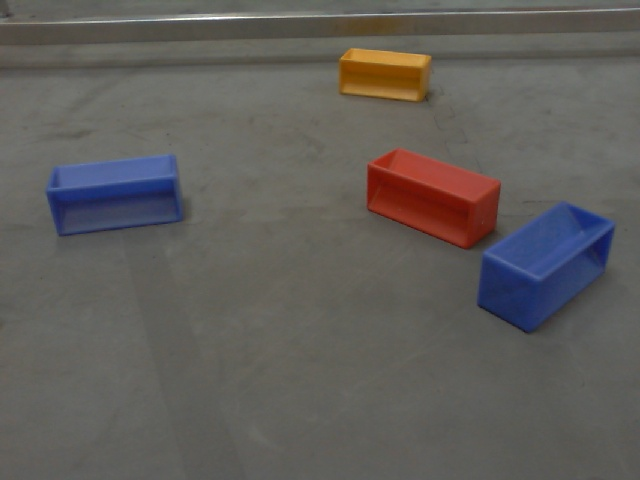BlueSample: (474, 195, 617, 335), (45, 150, 186, 239)
RedSample: (365, 146, 501, 253)
YellowSample: (333, 46, 435, 107)
